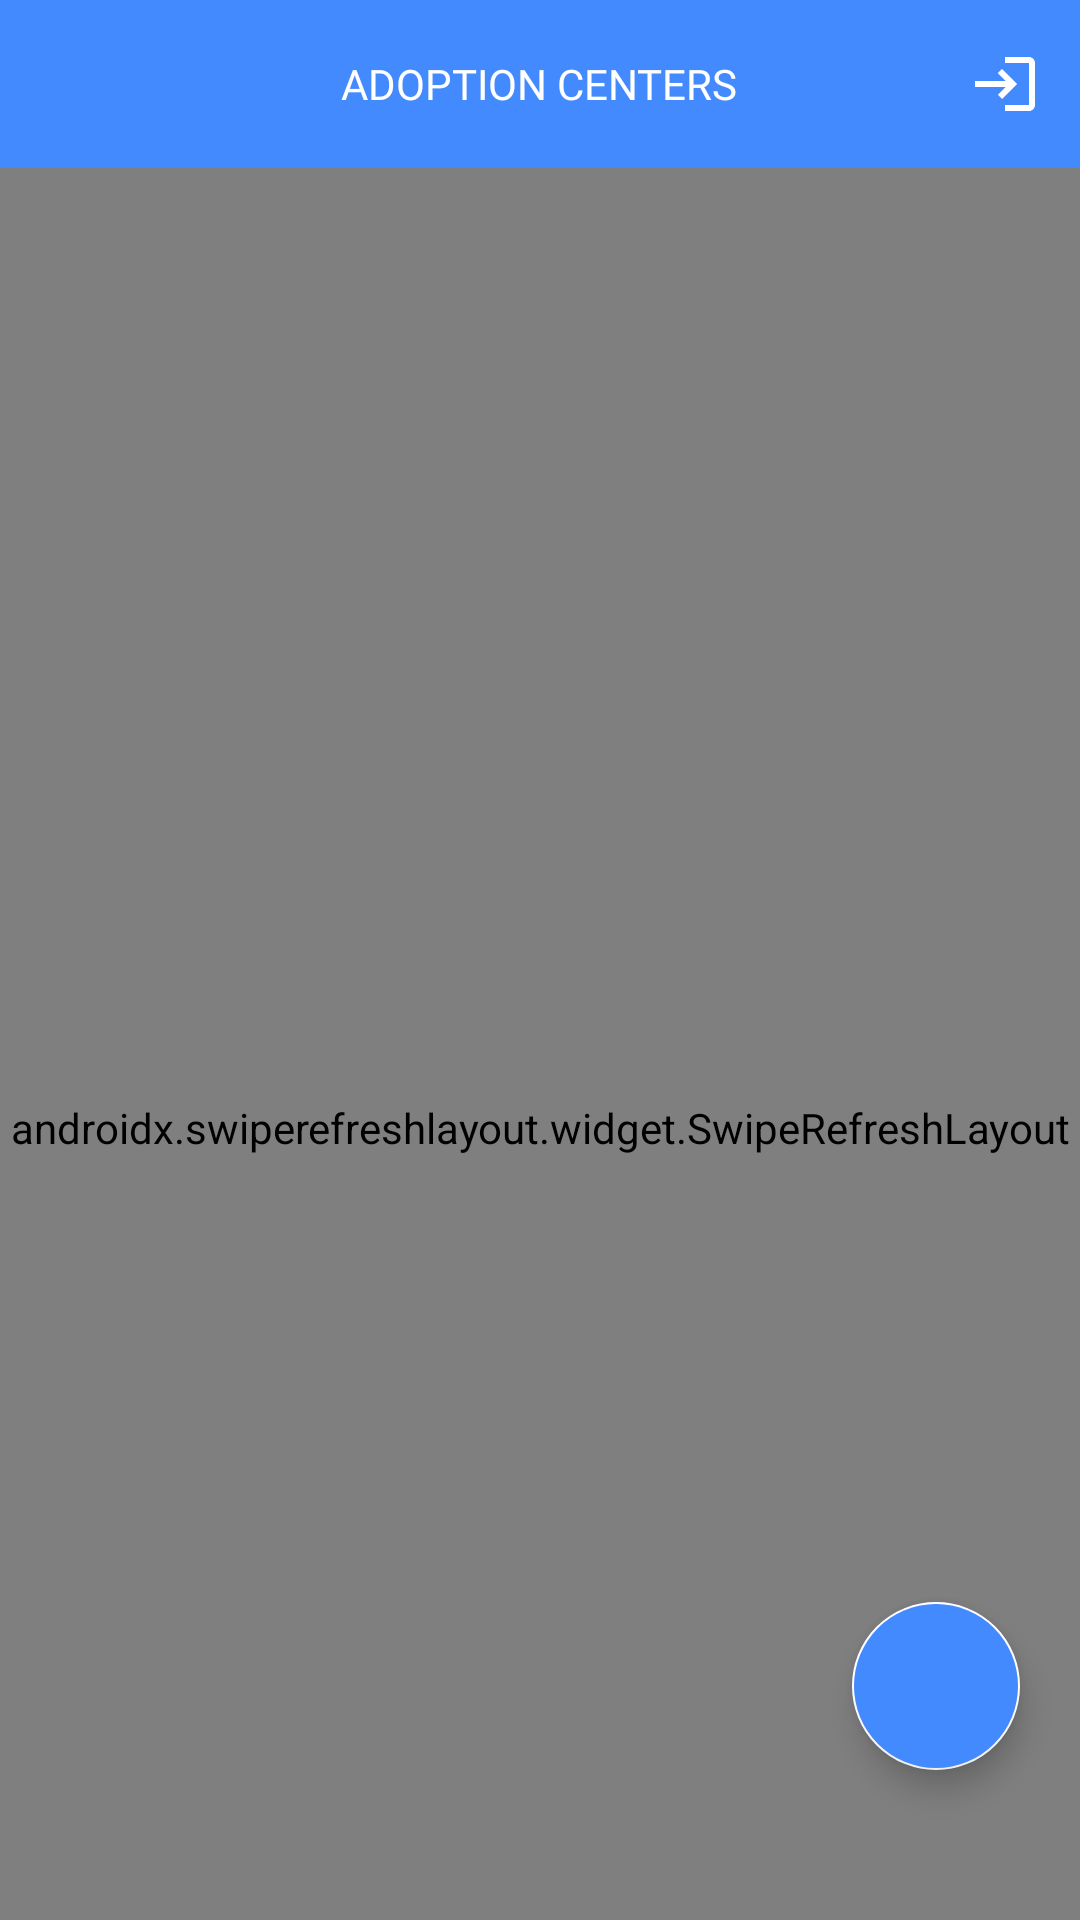

Icon bounding boxes for this 1080*1920 phone screenshot, format [left=x1, top=y1, right=x2, bottom=y2]:
login: [left=975, top=57, right=1035, bottom=111]
